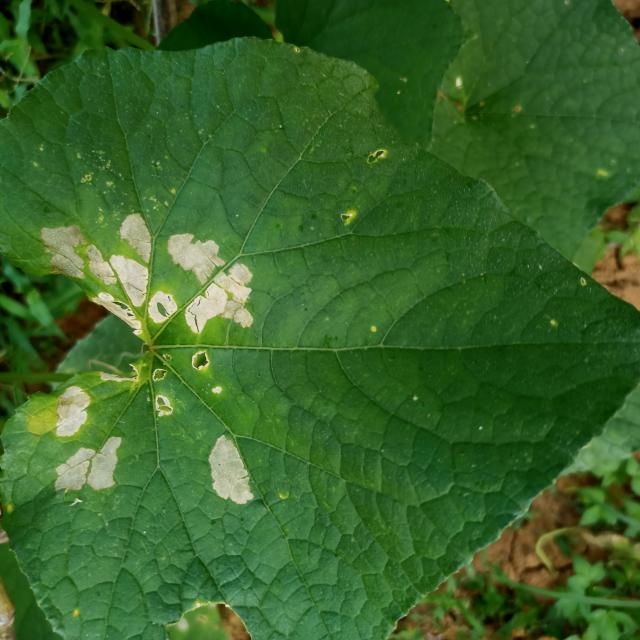disease_cucumber: (38, 208, 256, 342), (52, 434, 122, 495), (205, 432, 258, 508), (54, 383, 91, 439), (147, 367, 179, 419), (190, 349, 224, 393)
